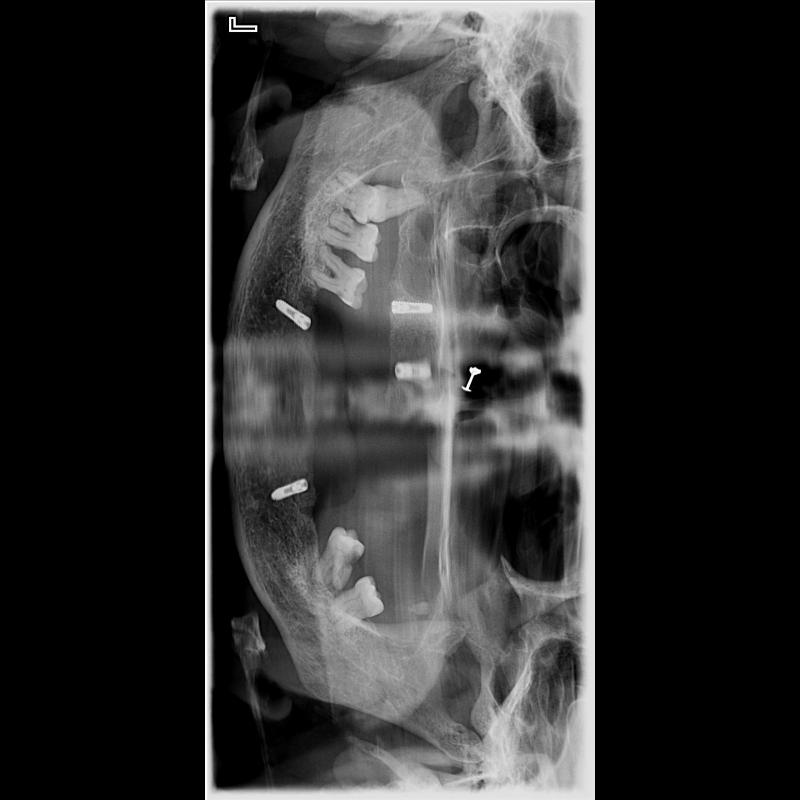osstem: (267, 298, 311, 336), (268, 478, 310, 506), (386, 299, 434, 319)
